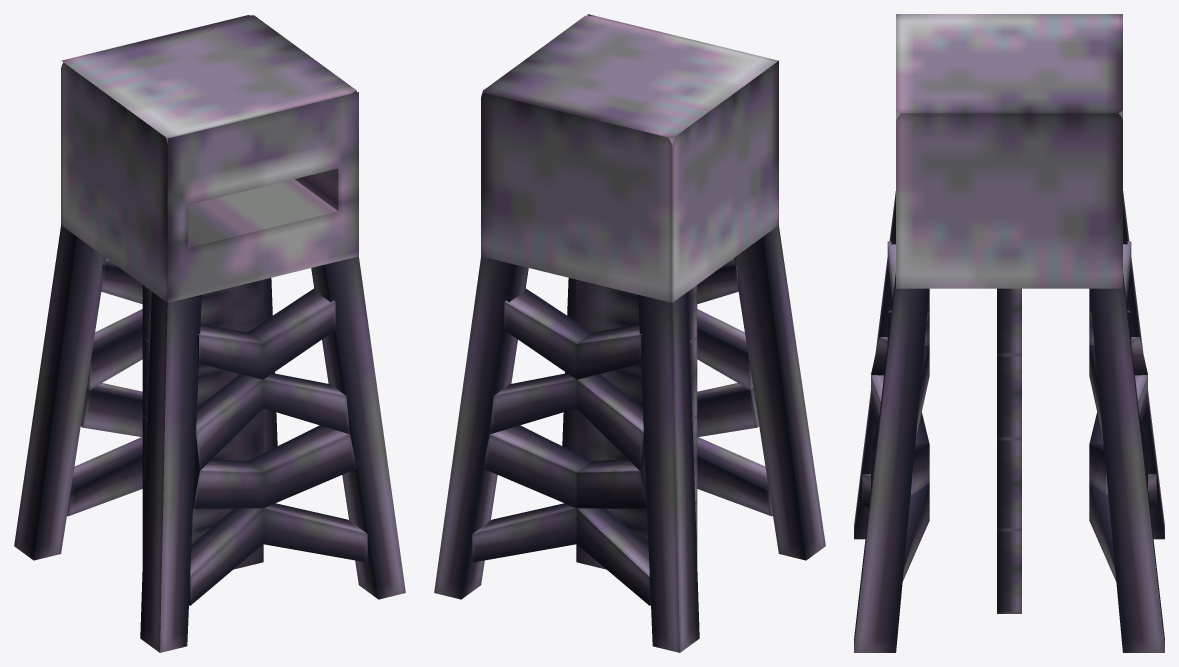
File: Poly_World_Map_Outlook_Post_01.obj
The picture shows the model from 3 angles, left to right: view 1: azimuth 30°, elevation 25°; view 2: azimuth 150°, elevation 25°; view 3: azimuth 270°, elevation 25°; orthographic projection. The views are drawn at different scales.
Visible parts, largest first — view 1: Grid.002, Grid.001, Grid.003, Grid.004; view 2: Grid.002, Grid.001, Grid.003, Grid.004; view 3: Grid.002, Grid.001, Grid.003, Grid.004.
Boxes of the visible parts, x1,y1,x2,y2 form: Grid.002: (61, 15, 358, 302); Grid.001: (14, 225, 405, 652); Grid.003: (67, 258, 367, 605); Grid.004: (142, 279, 263, 569); Grid.002: (481, 14, 778, 302); Grid.001: (434, 225, 825, 652); Grid.003: (472, 258, 772, 605); Grid.004: (576, 279, 697, 569); Grid.002: (896, 14, 1122, 288); Grid.001: (854, 191, 1164, 652); Grid.003: (862, 241, 1156, 581); Grid.004: (997, 288, 1021, 613).
Size of the model in its own units: 0.36 by 0.69 by 0.37.
1 material, 1 textured.
